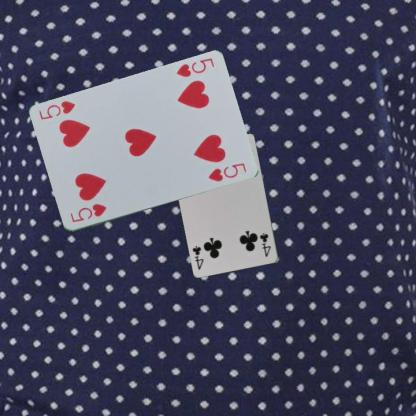4c: (257, 230, 272, 258)
5h: (174, 56, 216, 78), (68, 201, 108, 224)
